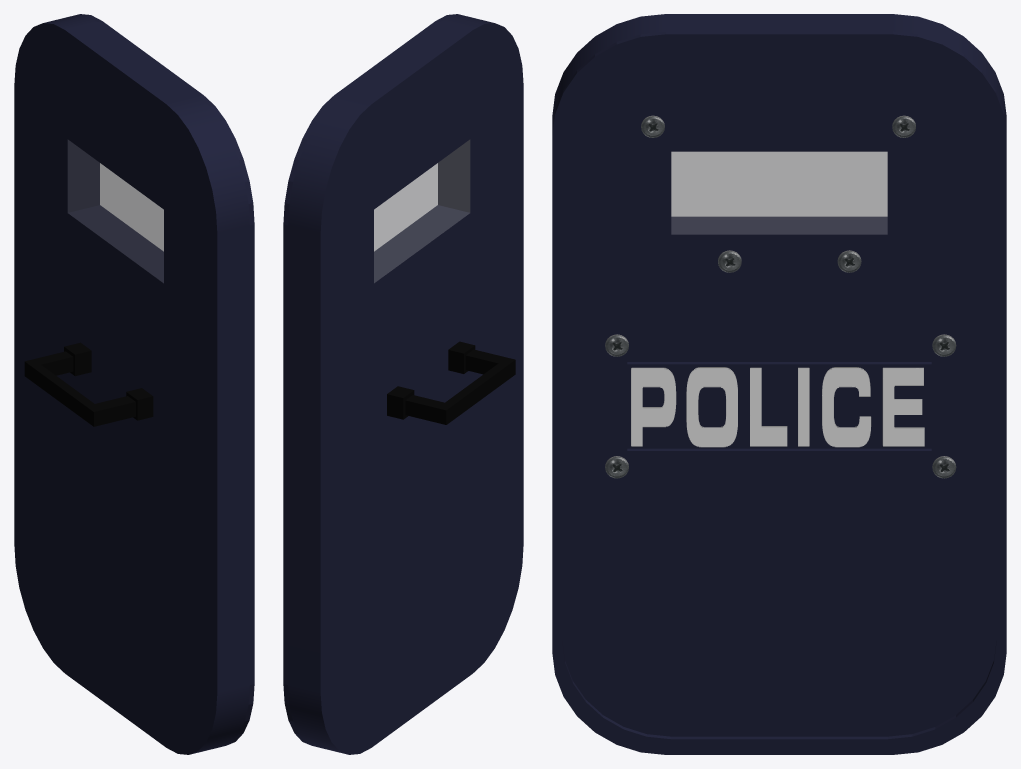
Rendered from RiotShield.fbx.
3 views of the same model, side by side, from view 1: azimuth 30°, elevation 25°; view 2: azimuth 150°, elevation 25°; view 3: azimuth 270°, elevation 25° (orthographic). The views are drawn at different scales.
Visible parts, largest first — view 1: pCube4, pCube5; view 2: pCube4, pCube5; view 3: pCube4, pCube2.
Boxes of the visible parts, bbox=[...] form: pCube4: bbox=[14, 14, 254, 754]; pCube5: bbox=[24, 342, 153, 426]; pCube4: bbox=[283, 14, 523, 754]; pCube5: bbox=[387, 341, 515, 424]; pCube4: bbox=[552, 14, 1006, 754]; pCube2: bbox=[627, 362, 931, 450].
Bounding box in the file's own units: 0.404 × 2.61 × 1.49.
Materials: 8 (2 with a texture image).
